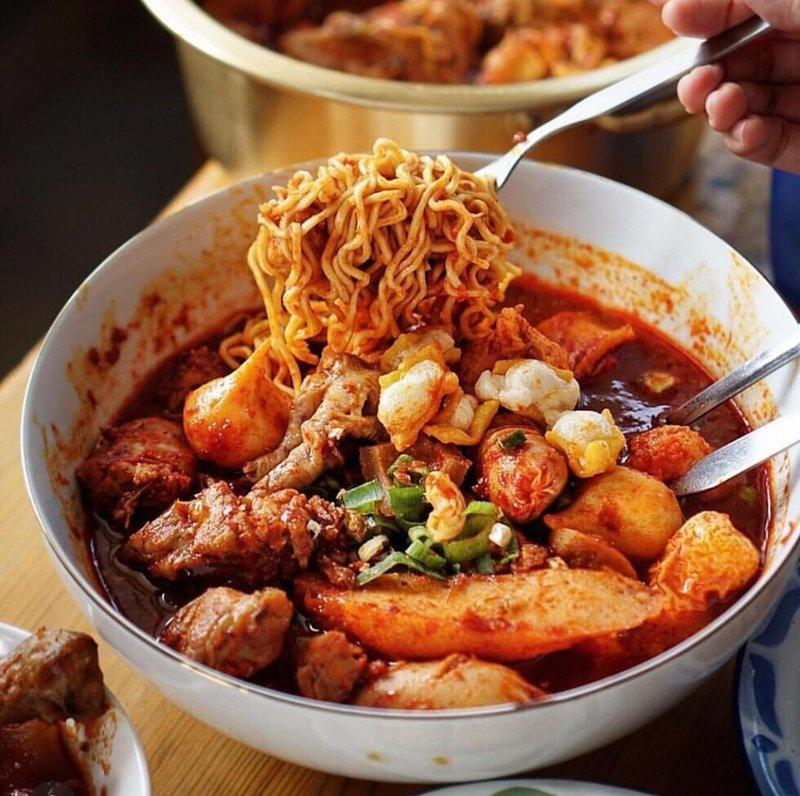seblak: (71, 151, 761, 711)
